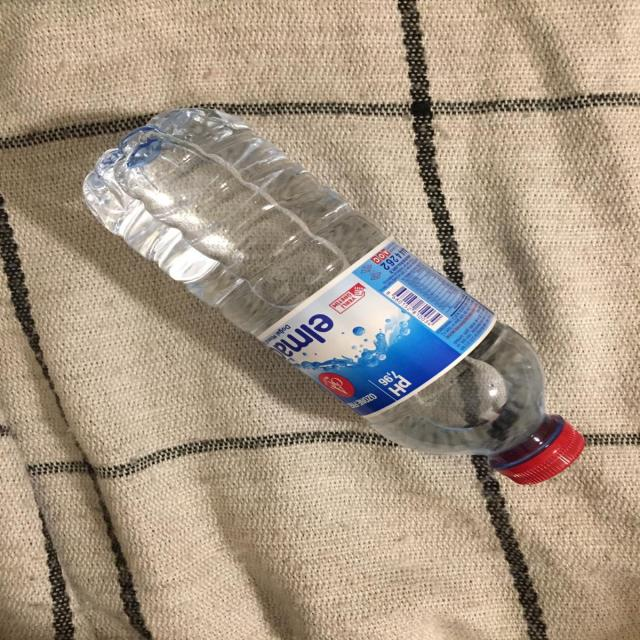bottle: (54, 97, 598, 495)
